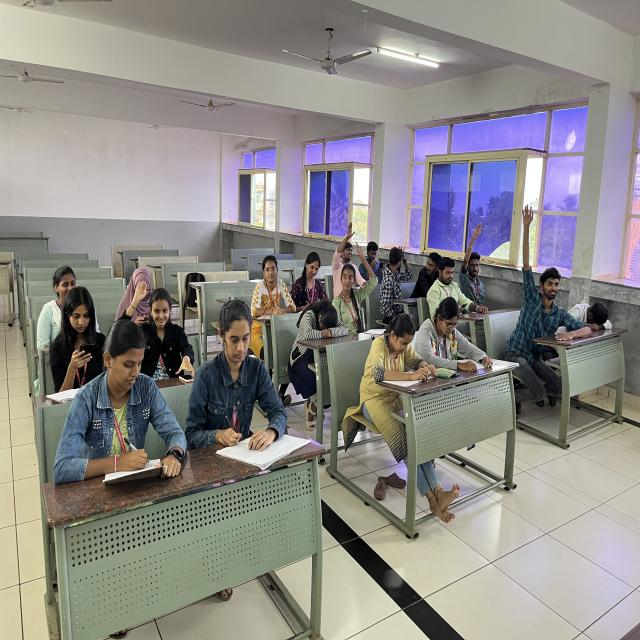Hand Rising: (511, 195, 576, 360), (454, 217, 491, 305), (342, 243, 380, 327), (331, 222, 362, 292)
Reading: (415, 298, 503, 390), (360, 312, 430, 408)
Using Phone: (428, 264, 478, 322)
Writing: (59, 318, 194, 484), (191, 293, 292, 470), (51, 288, 107, 376), (244, 254, 302, 325), (287, 246, 341, 308)
